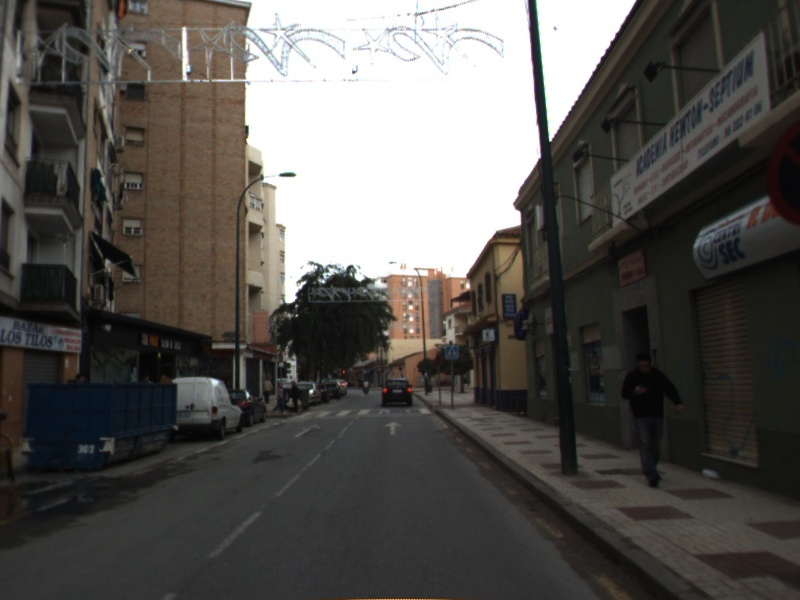STRAIGHT: (291, 422, 324, 440), (381, 420, 406, 437)
